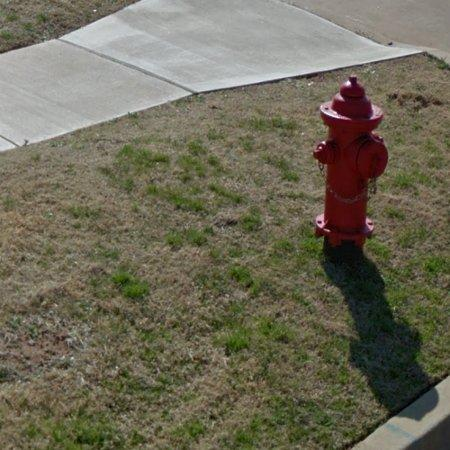a fire hydrant: (314, 75, 389, 247)
